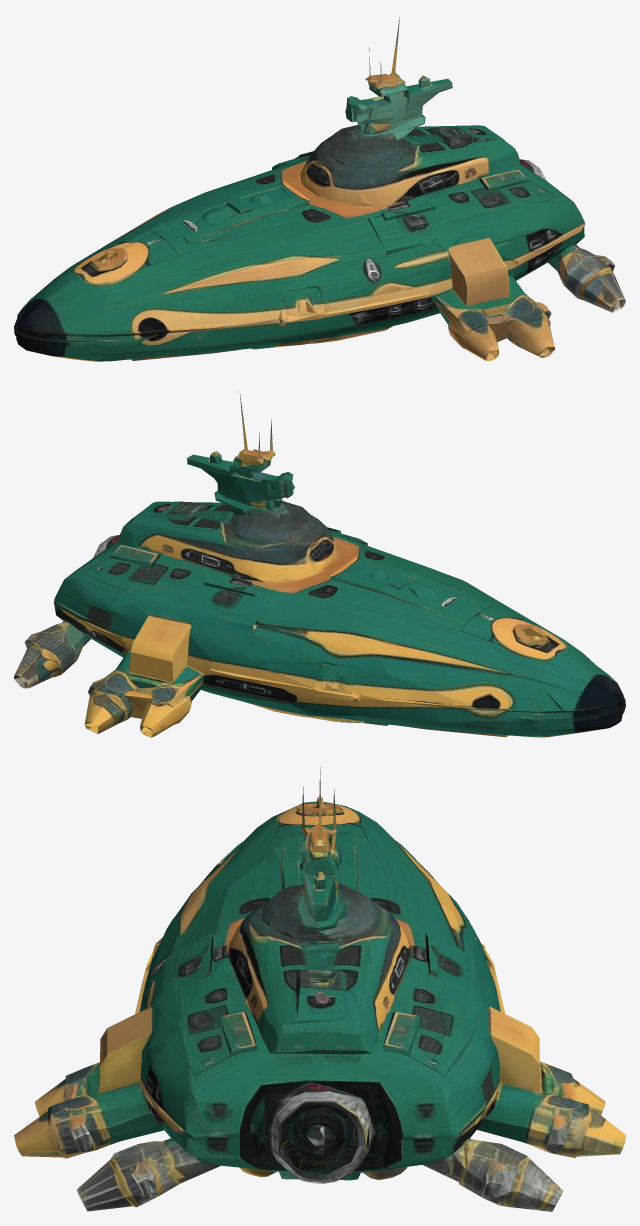
File: nation-s-cruiser.glb
The picture shows the model from 3 angles, top to bottom: view 1: azimuth 30°, elevation 25°; view 2: azimuth 150°, elevation 25°; view 3: azimuth 270°, elevation 25°; orthographic projection. The views are drawn at different scales.
Size of the model in its own units: 1.9 by 0.9882 by 1.4.
1 material, 1 textured.
